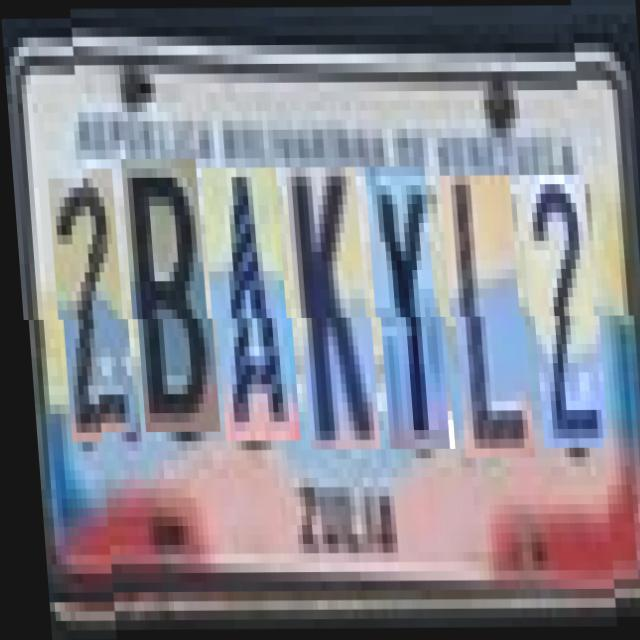2: (522, 176, 602, 449), (49, 168, 130, 432)
A: (204, 168, 294, 441)
B: (124, 159, 214, 432)
K: (287, 167, 373, 450)
L: (442, 176, 528, 459)
Y: (367, 166, 448, 450)
